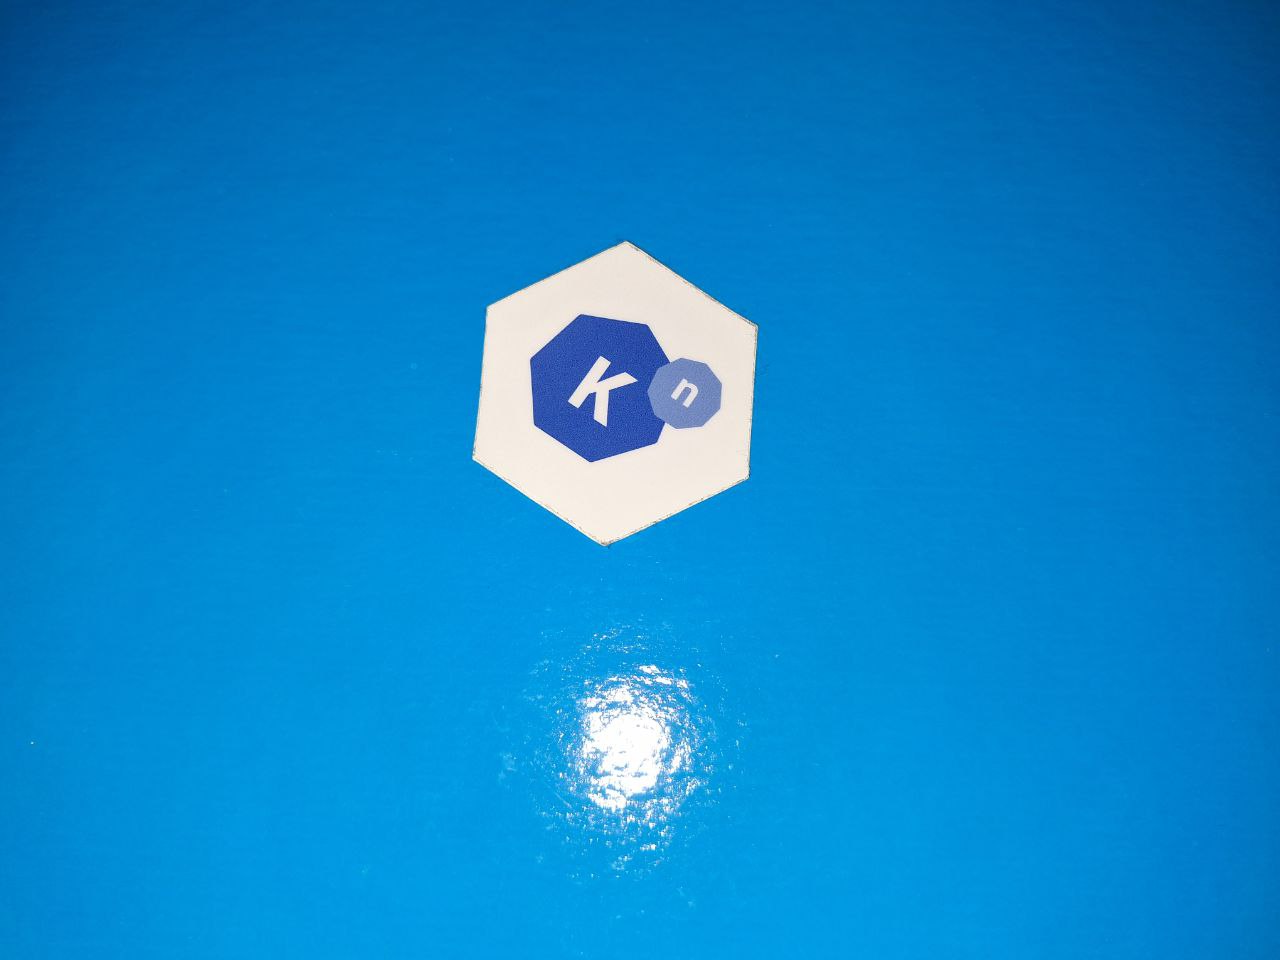knative: (528, 309, 723, 464)
